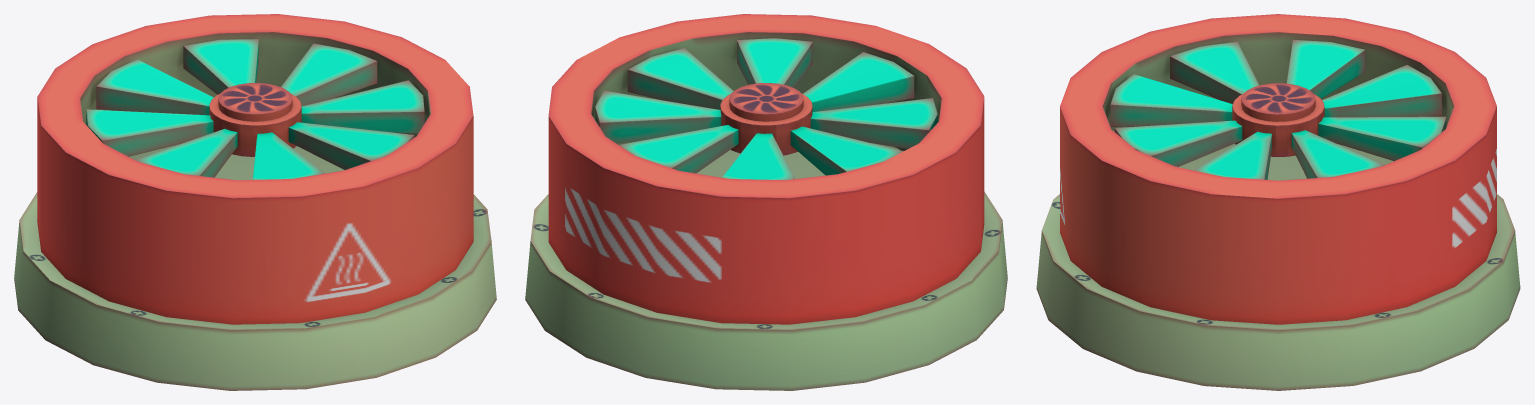
File: fan_ver1 1.fbx
3 views of the same model, side by side, from view 1: azimuth 30°, elevation 25°; view 2: azimuth 150°, elevation 25°; view 3: azimuth 270°, elevation 25° (orthographic).
Parts seen in each view (by area): view 1: base, helix; view 2: base, helix; view 3: base, helix.
Part boxes in pixels (box(x1,y1,x2,y2)): base: box(14, 14, 496, 390); helix: box(86, 39, 424, 179); base: box(525, 14, 1007, 390); helix: box(595, 38, 937, 179); base: box(1036, 14, 1520, 390); helix: box(1110, 39, 1446, 179).
Size of the model in its own units: 6.6 by 2.86 by 6.6.
Materials: 1 (1 with a texture image).
